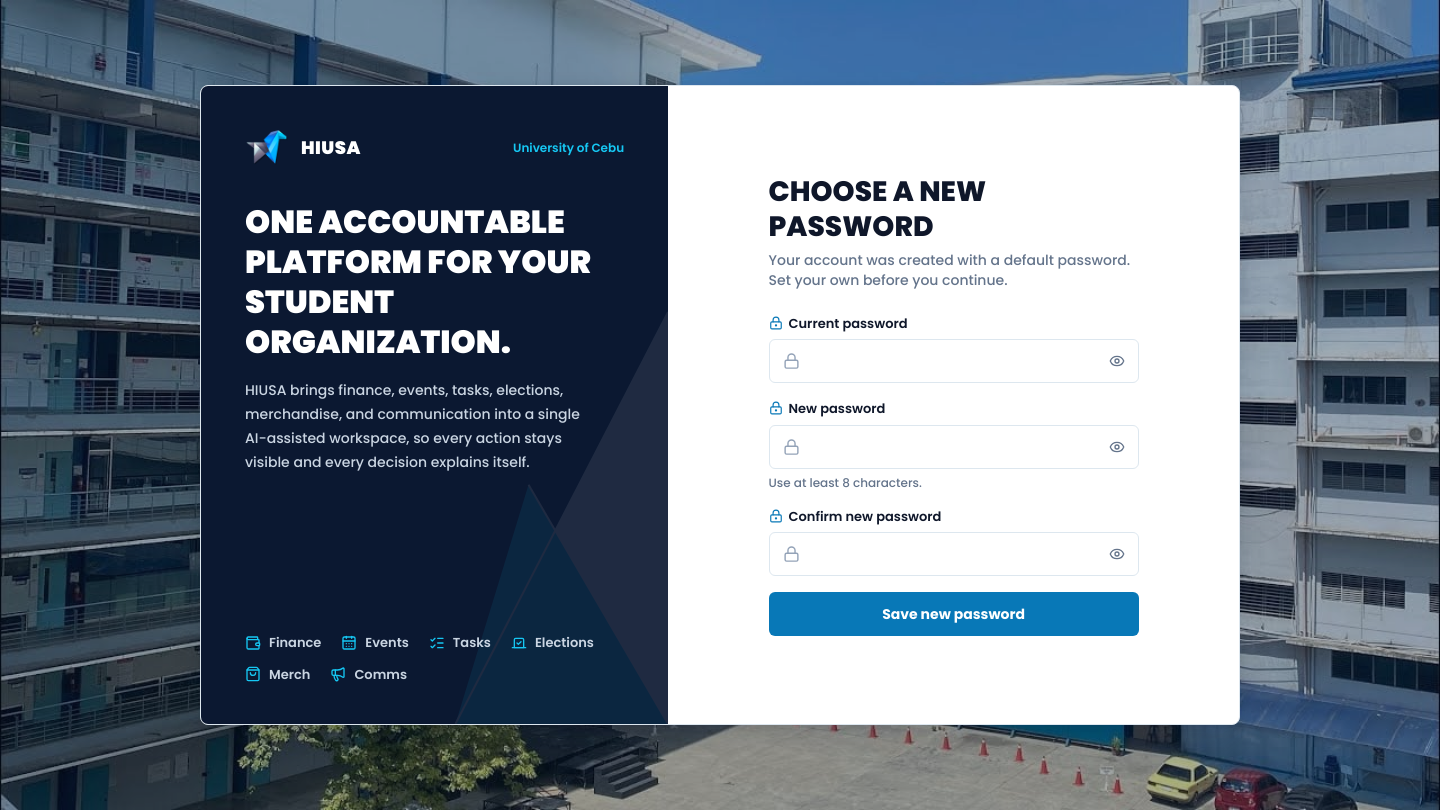
it: ChangePasswordPage › focuses the first invalid field and names the problem next to it
Type "short" into the password field labelled "New password" at [954, 447], box left=768, top=425, right=1138, bottom=469
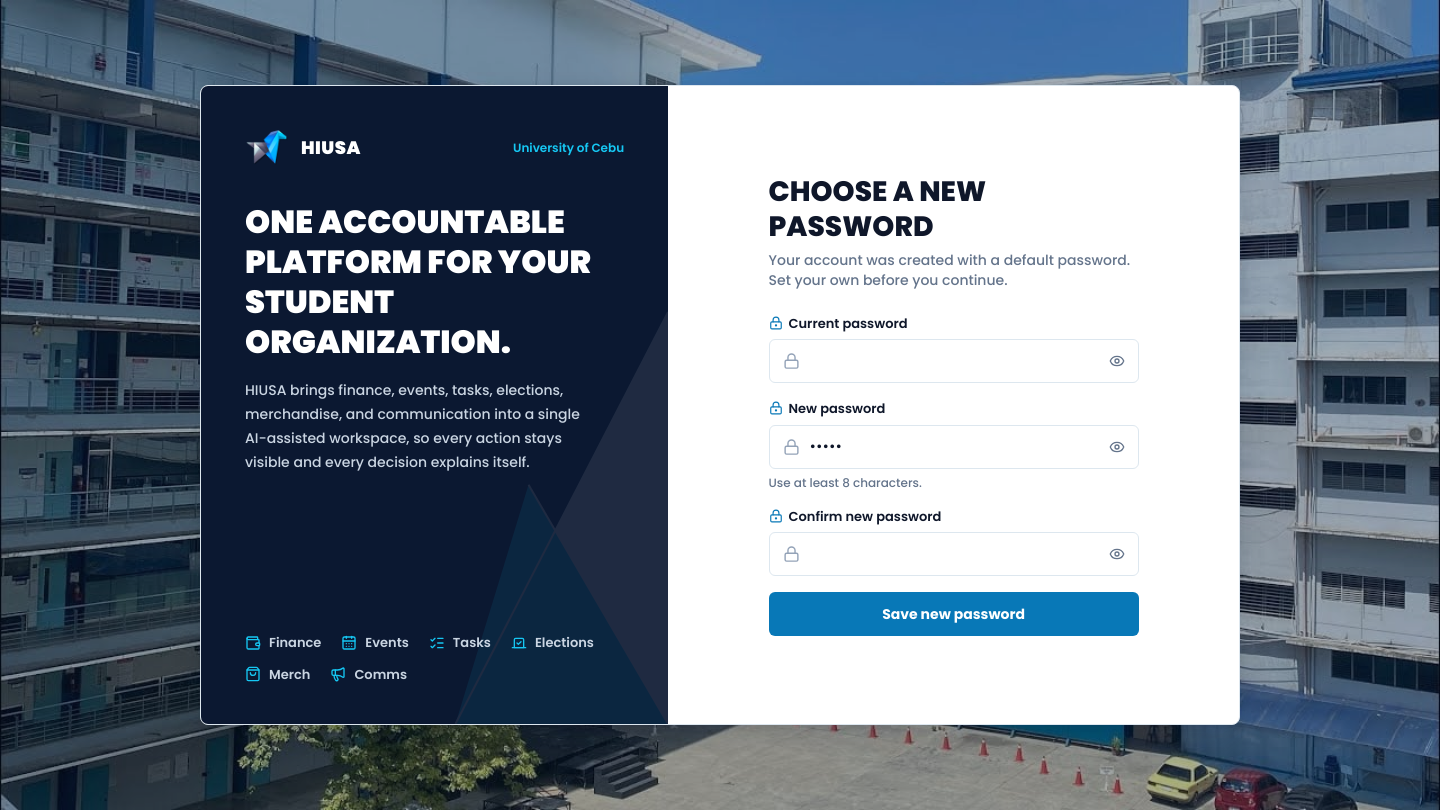
Type "short" into the password field labelled "Confirm new password" at [954, 554], box left=768, top=532, right=1138, bottom=576
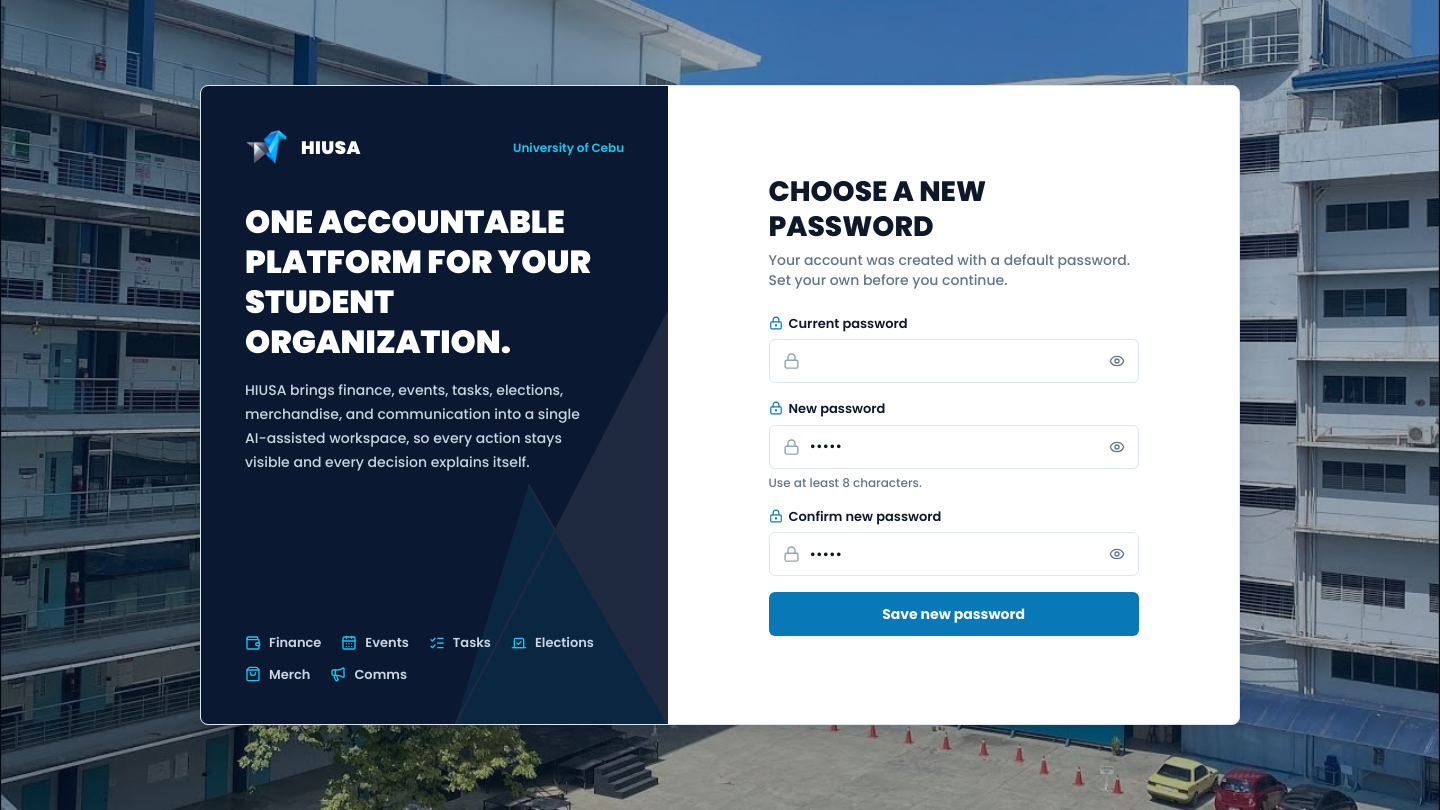
Click the button "Save new password" at [954, 614], box left=768, top=592, right=1138, bottom=636
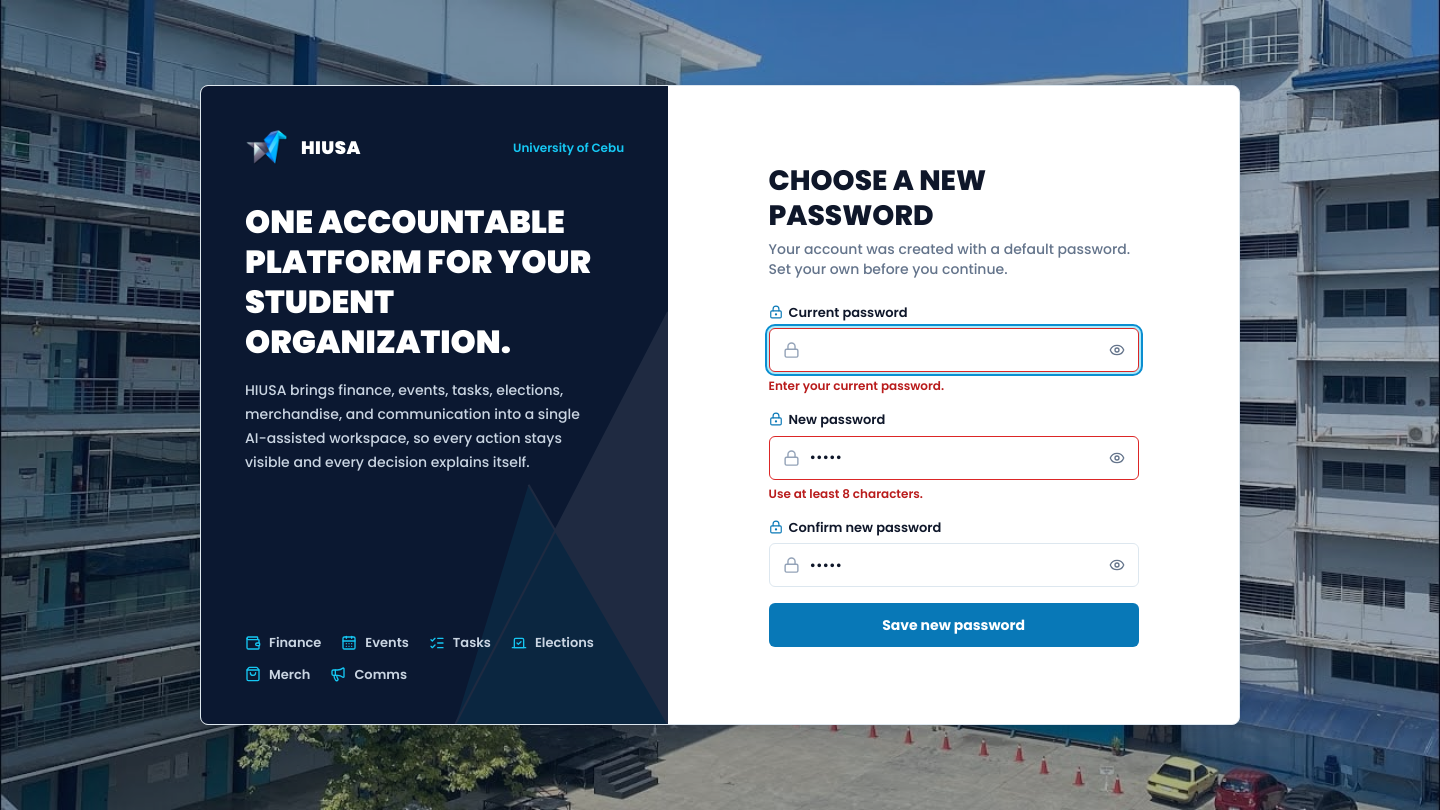
Expected: the text "Use at least 8 characters." is shown, left=768, top=485, right=923, bottom=502
Expected: the text "Enter your current password." is shown, left=768, top=377, right=944, bottom=394
